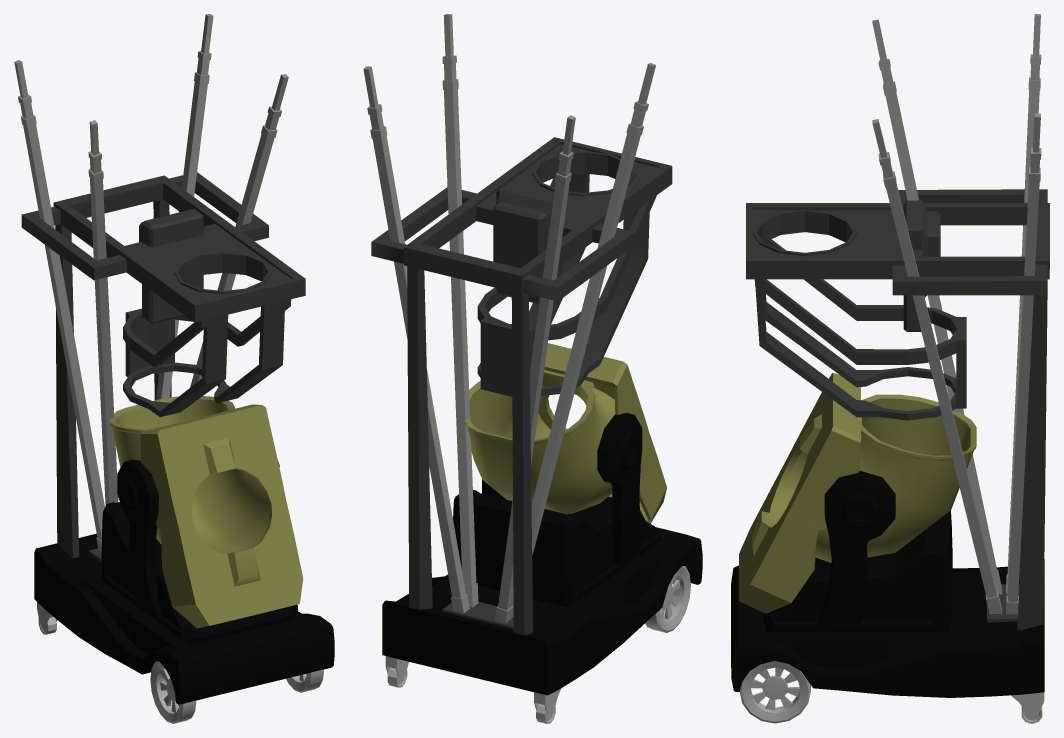
The model's file is Lanzapelotas3000 (1).fbx.
3 renders of one model, left to right at view 1: azimuth 30°, elevation 25°; view 2: azimuth 150°, elevation 25°; view 3: azimuth 270°, elevation 25°, orthographic. The views are drawn at different scales.
Parts seen in each view (by area): view 1: BaseInf, Armazon, Palo, Palo1, Palo3, Palo2, Lanta3; view 2: BaseInf, Armazon, Palo2, Palo1, Palo3, Palo, Lanta3, Llanticas; view 3: BaseInf, Armazon, Palo2, Palo3, Palo1, Lanta3, Palo, Llanticas.
Boxes of the visible parts, x1,y1,x2,y2 form: BaseInf: (34,396,334,704); Armazon: (21,172,305,562); Palo: (14,60,104,551); Palo1: (88,120,118,505); Palo3: (156,14,213,400); Palo2: (190,74,288,404); Lanta3: (150,661,324,723); BaseInf: (382,343,702,695); Armazon: (371,137,672,635); Palo2: (442,14,478,607); Palo1: (512,63,655,617); Palo3: (363,66,469,613); Palo: (495,115,575,623); Lanta3: (645,566,690,632); Llanticas: (385,656,561,723); BaseInf: (731,373,1044,697); Armazon: (746,189,1049,630); Palo2: (872,119,1002,614); Palo3: (1006,113,1041,614); Palo1: (872,19,1002,594); Lanta3: (739,661,810,723); Palo: (1006,14,1041,593); Llanticas: (1011,692,1044,723).
Bounding box in the file's own units: 19.95 × 56.06 × 26.06.
